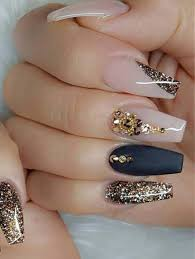nail: (104, 53, 182, 101), (108, 100, 187, 143), (106, 142, 185, 175), (47, 1, 132, 23), (105, 178, 174, 203), (1, 177, 25, 246)
